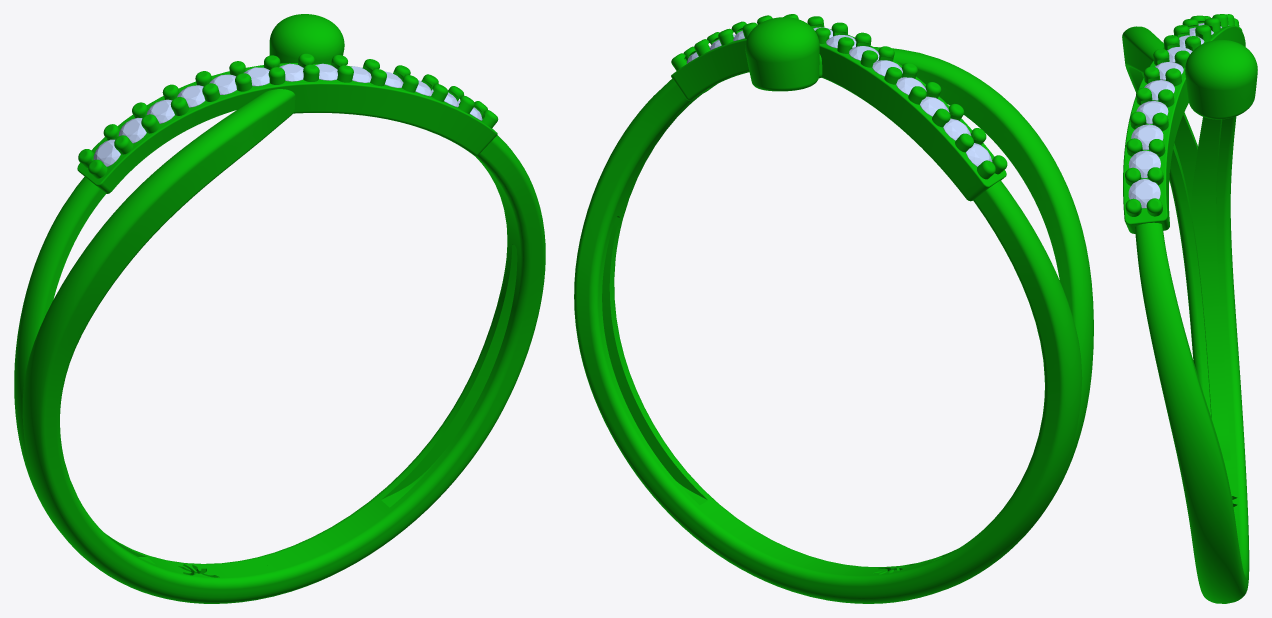
The picture shows the model from 3 angles, left to right: view 1: azimuth 30°, elevation 25°; view 2: azimuth 150°, elevation 25°; view 3: azimuth 270°, elevation 25°; orthographic projection. The views are drawn at different scales.
Parts seen in each view (by area): view 1: 3.3dm; view 2: 3.3dm; view 3: 3.3dm.
Part boxes in pixels (x1,y1,x2,y2): 3.3dm: (14, 14, 545, 603); 3.3dm: (574, 14, 1093, 603); 3.3dm: (1122, 14, 1257, 603).
Bounding box in the file's own units: 2.71 × 2.87 × 0.6424.
